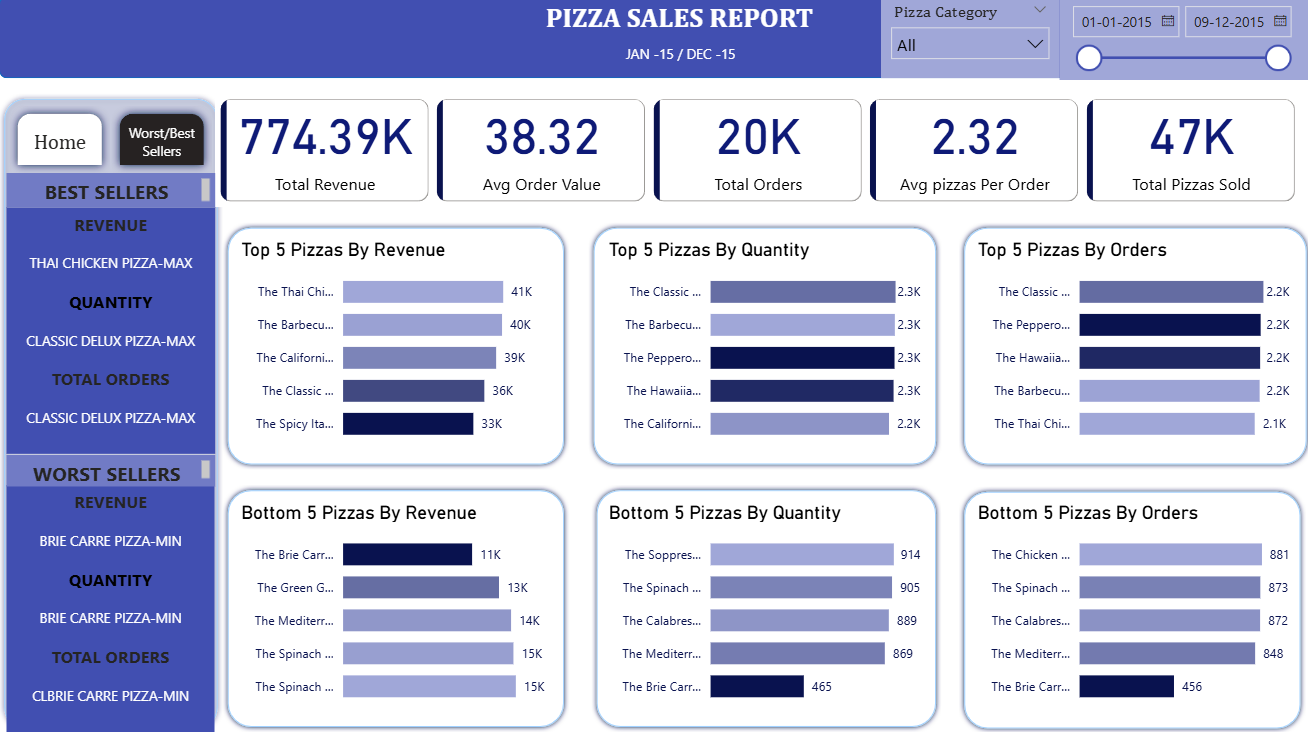

This screenshot's page, from the dashboard's own definition file:
{"tool":"powerbi","page":{"name":"Worst/Best Sellers","canvas":[1280,720],"ordinal":1},"visuals":[{"type":"shape","box":[0,95.4,218,623.9],"z":0},{"type":"cardVisual","fields":{"Data":["pizza_sales.Total Revenue","pizza_sales.Avg Order Value","pizza_sales.Total Orders","pizza_sales.Avg pizzas Per Order","pizza_sales.Total Pizzas Sold"]},"box":[210.5,95.4,1059.9,110.5],"z":1000},{"type":"shape","box":[0,0,1279.5,80.3],"z":2000},{"type":"textbox","box":[527.6,0,296.7,67.2],"z":3000},{"type":"textbox","box":[517.4,40.9,293.8,33.6],"z":4000},{"type":"shape","box":[218,221.1,337.7,240.8],"z":5000},{"type":"textbox","box":[7.3,172.5,203.1,33.6],"z":6000},{"type":"textbox","box":[7.3,206.1,203.1,239.7],"z":7000},{"type":"textbox","box":[7.6,477,202.9,240.8],"z":8000},{"type":"textbox","box":[7.3,447.2,203.1,30.7],"z":9000},{"type":"slicer","fields":{"Values":["pizza_sales.pizza_category"]},"box":[860.1,0,174.1,80.3],"z":10000},{"type":"slicer","fields":{"Values":["pizza_sales.order_date"]},"box":[1033.7,0,245.7,81.3],"z":11000},{"type":"shape","box":[218,477,337.7,240.8],"z":12000},{"type":"shape","box":[573.9,221.1,343.7,240.8],"z":13000},{"type":"shape","box":[576.9,477,340.7,240.8],"z":14000},{"type":"shape","box":[935.8,221.1,343.7,240.8],"z":15000},{"type":"shape","box":[935.8,478.5,337.7,240.8],"z":16000},{"type":"barChart","title":"Top 5 Pizzas By Revenue","fields":{"Category":["pizza_sales.pizza_name"],"Y":["pizza_sales.Total Revenue"]},"box":[230.6,236.2,313.7,209.8],"z":17000},{"type":"barChart","title":"Bottom 5 Pizzas By Revenue","fields":{"Category":["pizza_sales.pizza_name"],"Y":["pizza_sales.Total Revenue"]},"box":[230.6,493.2,313.7,209.8],"z":18000},{"type":"barChart","title":"Top 5 Pizzas By Quantity","fields":{"Category":["pizza_sales.pizza_name"],"Y":["pizza_sales.Total Pizzas Sold"]},"box":[589.6,236.2,313.7,209.8],"z":19000},{"type":"barChart","title":"Bottom 5 Pizzas By Quantity","fields":{"Category":["pizza_sales.pizza_name"],"Y":["pizza_sales.Total Pizzas Sold"]},"box":[589.6,493.2,313.7,209.8],"z":20000},{"type":"barChart","title":"Top 5 Pizzas By Orders","fields":{"Category":["pizza_sales.pizza_name"],"Y":["pizza_sales.Total Orders"]},"box":[948.7,236.2,313.7,209.8],"z":21000},{"type":"barChart","title":"Bottom 5 Pizzas By Orders","fields":{"Category":["pizza_sales.pizza_name"],"Y":["pizza_sales.Total Orders"]},"box":[948.7,493.2,313.7,209.8],"z":22000},{"type":"pageNavigator","box":[10.6,106,98.4,66.6],"z":23000},{"type":"pageNavigator","box":[109,106,98.4,66.6],"z":24000}]}

Visuals, with their boxes in screenshot pixels (x1, y1, x2, y2), scaled from the page's 1280x720 canvas onto the 1308x732 screenshot:
shape: box(0, 97, 223, 731)
cardVisual - pizza_sales.Total Revenue x pizza_sales.Avg Order Value: box(215, 97, 1298, 209)
shape: box(0, 0, 1307, 82)
textbox: box(539, 0, 842, 68)
textbox: box(529, 42, 829, 76)
shape: box(223, 225, 568, 470)
textbox: box(7, 175, 215, 210)
textbox: box(7, 210, 215, 453)
textbox: box(8, 485, 215, 730)
textbox: box(7, 455, 215, 486)
slicer - pizza_sales.pizza_category: box(879, 0, 1057, 82)
slicer - pizza_sales.order_date: box(1056, 0, 1307, 83)
shape: box(223, 485, 568, 730)
shape: box(586, 225, 938, 470)
shape: box(590, 485, 938, 730)
shape: box(956, 225, 1307, 470)
shape: box(956, 486, 1301, 731)
"Top 5 Pizzas By Revenue" barChart: box(236, 240, 556, 453)
"Bottom 5 Pizzas By Revenue" barChart: box(236, 501, 556, 715)
"Top 5 Pizzas By Quantity" barChart: box(602, 240, 923, 453)
"Bottom 5 Pizzas By Quantity" barChart: box(602, 501, 923, 715)
"Top 5 Pizzas By Orders" barChart: box(969, 240, 1290, 453)
"Bottom 5 Pizzas By Orders" barChart: box(969, 501, 1290, 715)
pageNavigator: box(11, 108, 111, 175)
pageNavigator: box(111, 108, 212, 175)
